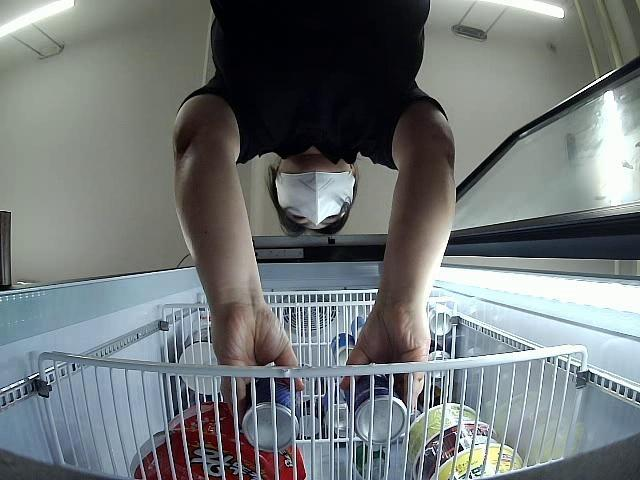16_hot6: (245, 364, 298, 452), (344, 374, 406, 446)
